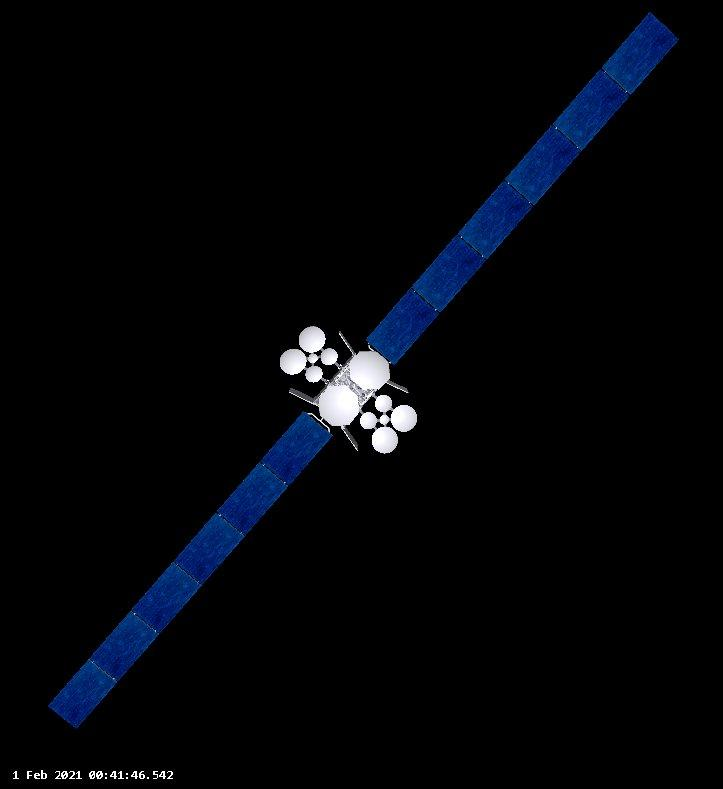antenna: (348, 349, 392, 392), (319, 383, 361, 428), (370, 425, 400, 455), (297, 324, 326, 355), (279, 347, 308, 377), (390, 403, 419, 433), (303, 364, 326, 385), (319, 346, 341, 367), (374, 393, 394, 414), (358, 411, 379, 431), (378, 413, 391, 426), (306, 352, 320, 364)
body: (312, 351, 391, 430)
solar: (365, 8, 690, 369), (46, 409, 339, 732)
